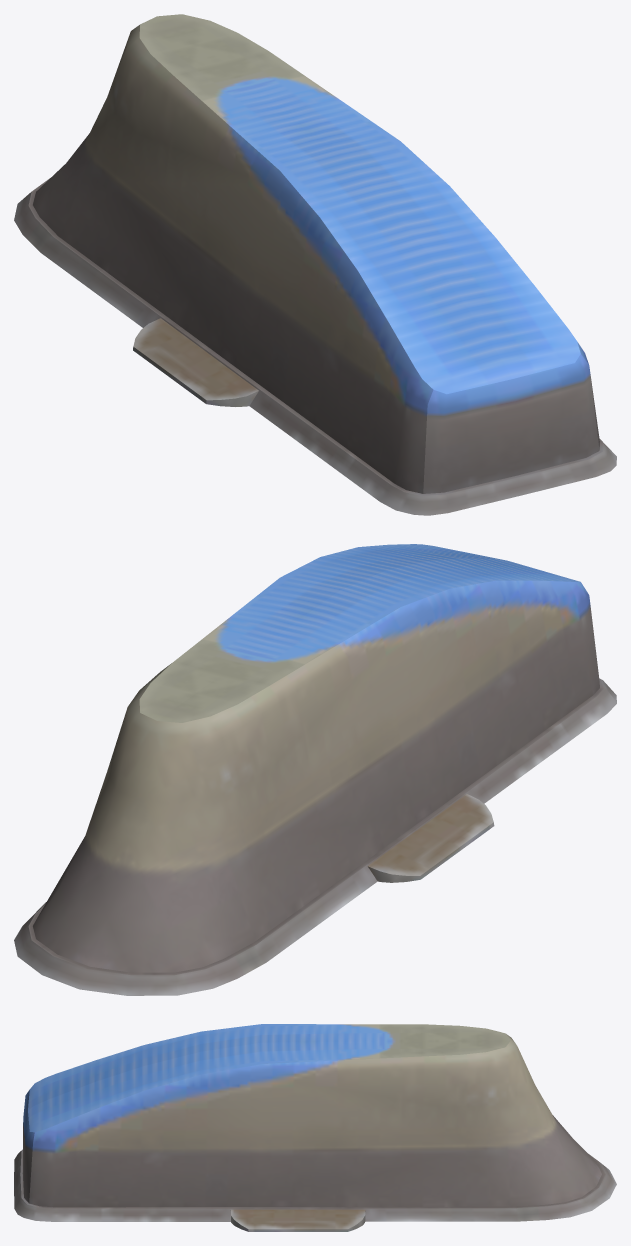
Rendered from pref_sm_beach_winter_techobstacle06_lv3.fbx.
3 views of the same model, one above another, from view 1: azimuth 30°, elevation 25°; view 2: azimuth 150°, elevation 25°; view 3: azimuth 270°, elevation 25° (orthographic). The views are drawn at different scales.
Parts seen in each view (by area): view 1: pref_sm_beach_winter_techobstacle06_lv3; view 2: pref_sm_beach_winter_techobstacle06_lv3; view 3: pref_sm_beach_winter_techobstacle06_lv3.
Boxes of the visible parts, box(x1,y1,x2,y2) form: pref_sm_beach_winter_techobstacle06_lv3: box(14, 14, 616, 515); pref_sm_beach_winter_techobstacle06_lv3: box(14, 544, 616, 995); pref_sm_beach_winter_techobstacle06_lv3: box(14, 1024, 616, 1231).
Size of the model in its own units: 2.58 by 1.81 by 6.87.
